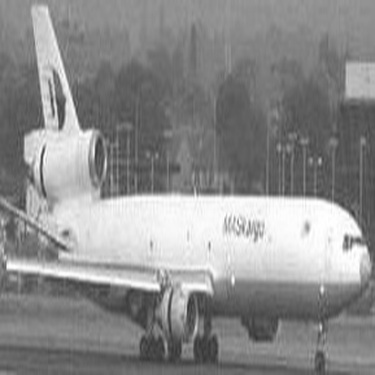airplane: (1, 1, 371, 366)
